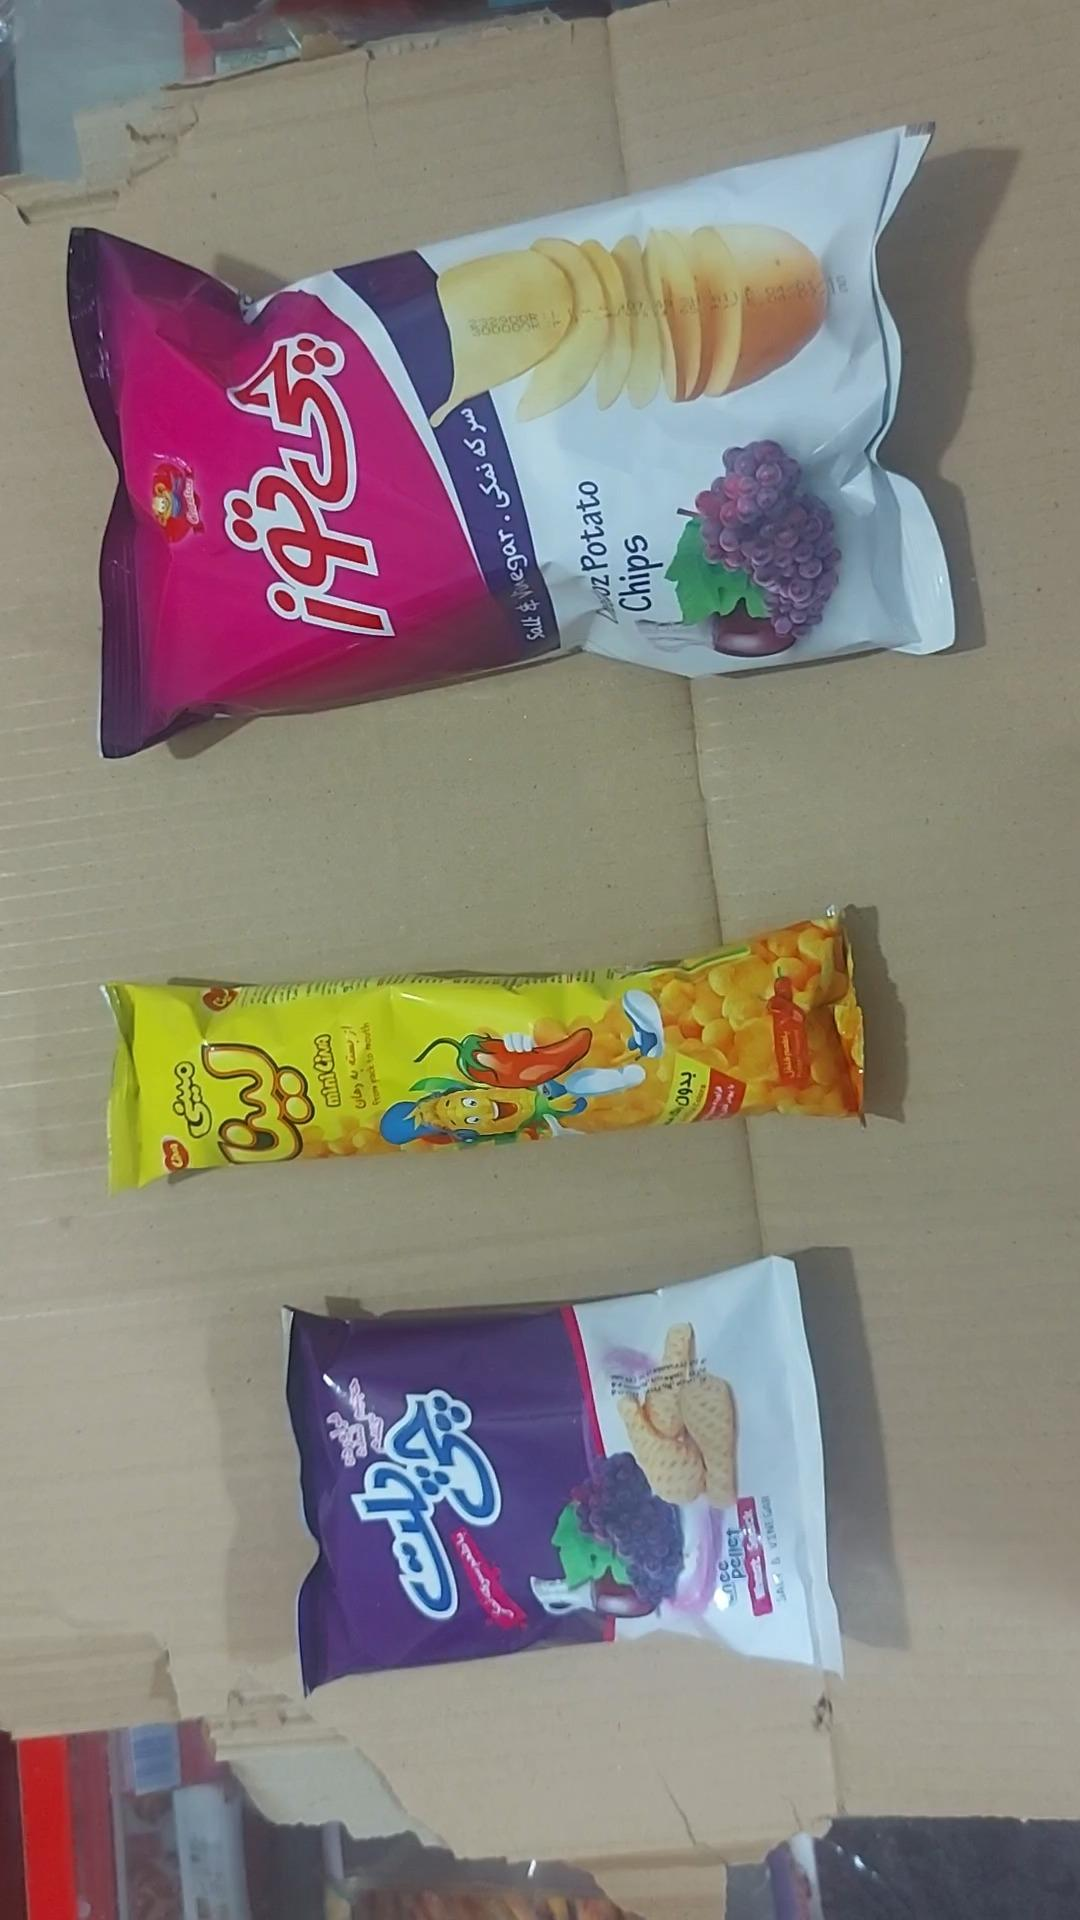Chee pellet vinegar: (282, 1257, 843, 1695)
Cheetoz vinegar chips: (65, 124, 964, 762)
Mini Lina: (103, 909, 865, 1193)
